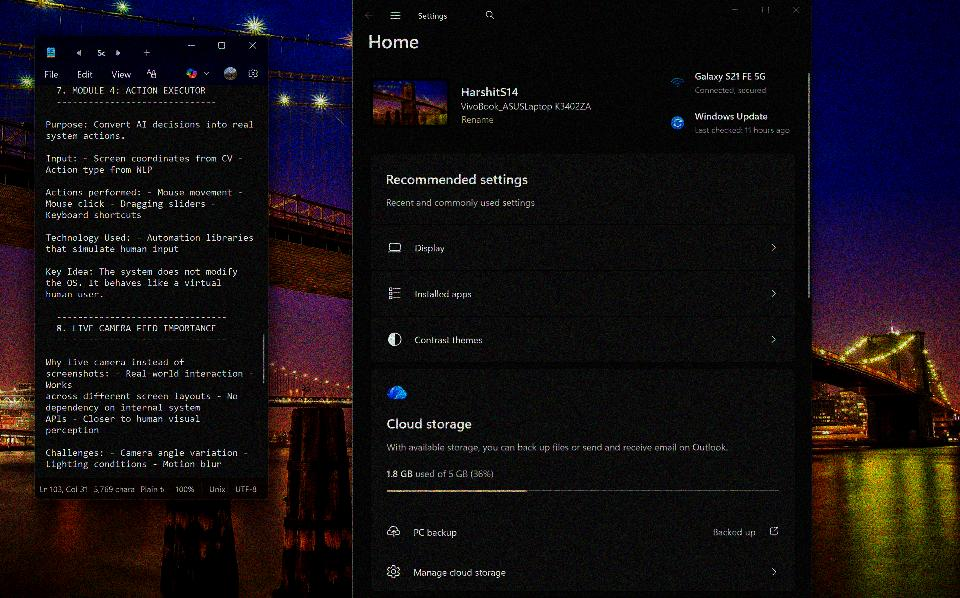close_button: (243, 38, 263, 60), (787, 1, 807, 19)
maximize_button: (212, 38, 234, 59), (758, 1, 776, 19)
minimize_button: (183, 38, 203, 58), (727, 1, 746, 18)
